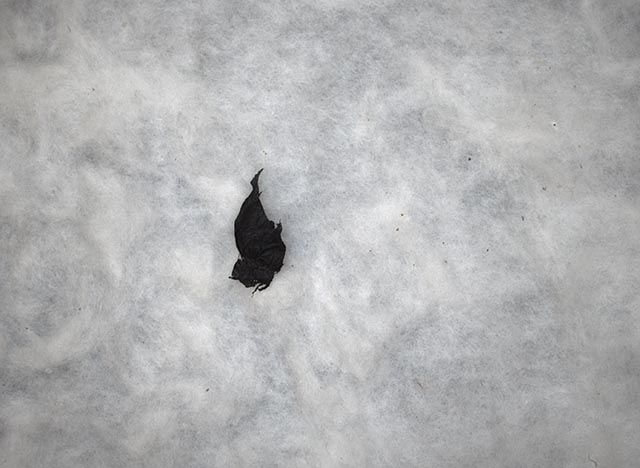plastic film: (227, 167, 287, 300)
